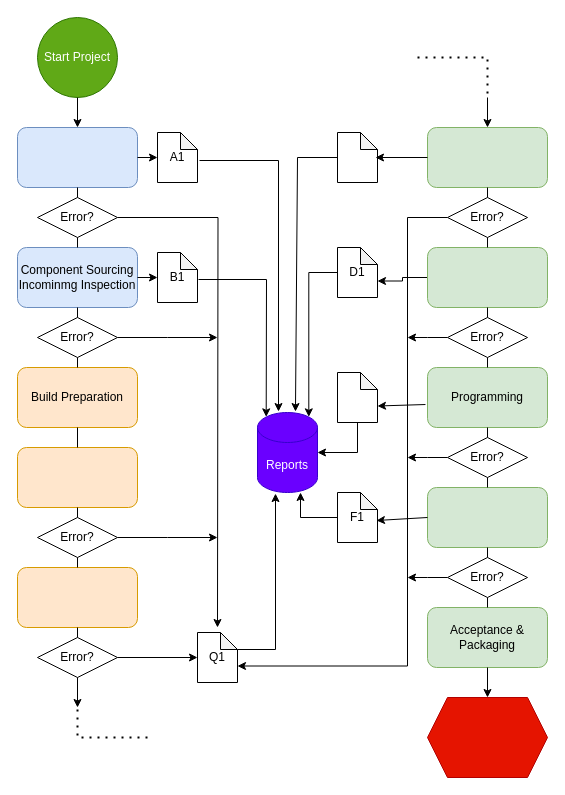
The diagram is 565 pixels wide and 795 high, and some of its shapes have lost their labels. Each missing label, with the box of its shape:
Basic Electrical Test: (426, 246, 548, 308)
C1: (336, 132, 378, 182)
E1: (336, 372, 378, 422)
Finish Project: (426, 696, 548, 778)
Functional Test: (426, 486, 548, 548)
PCB Fabrication: (16, 126, 138, 188)
SMT Placement & Reflow: (16, 446, 138, 508)
THT Assembly & Solderung: (16, 566, 138, 628)
Visual Inspection: (426, 126, 548, 188)
